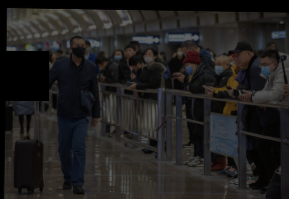mask_weared_incorrect: (143, 49, 154, 63)
with_mask: (258, 58, 273, 76), (71, 40, 86, 56), (213, 59, 224, 74), (184, 61, 194, 74), (113, 50, 122, 61), (175, 47, 183, 56)
without_mask: (234, 50, 248, 66), (123, 46, 134, 57), (130, 63, 140, 71), (97, 62, 106, 70)
